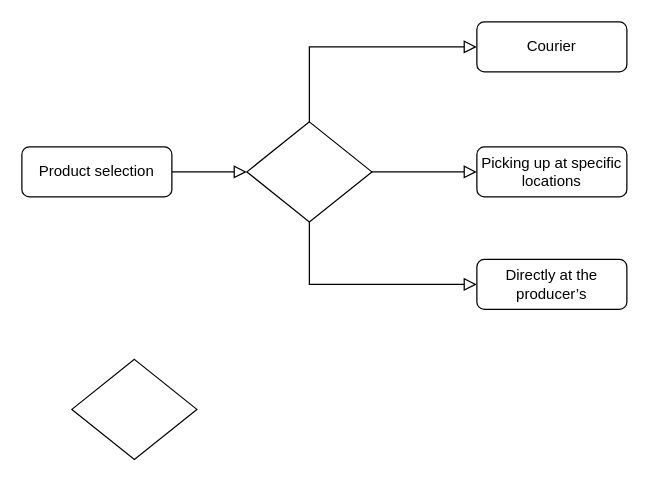
Some shapes in this 649 by 481 pixel diagram are drawn without their labels. The centre of each missing label's shape, as x and y in pixels:
"Bulb burned out?" belongs at point (134, 408).
"Product receiving method" belongs at point (309, 171).
